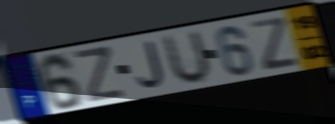6: (35, 51, 85, 112), (215, 24, 255, 78)
J: (136, 39, 167, 90)
U: (162, 28, 213, 88)
Z: (72, 45, 127, 105), (249, 15, 300, 73)
